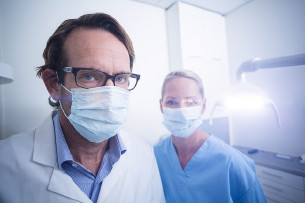face_mask: (60, 40, 133, 142), (158, 80, 206, 135)
